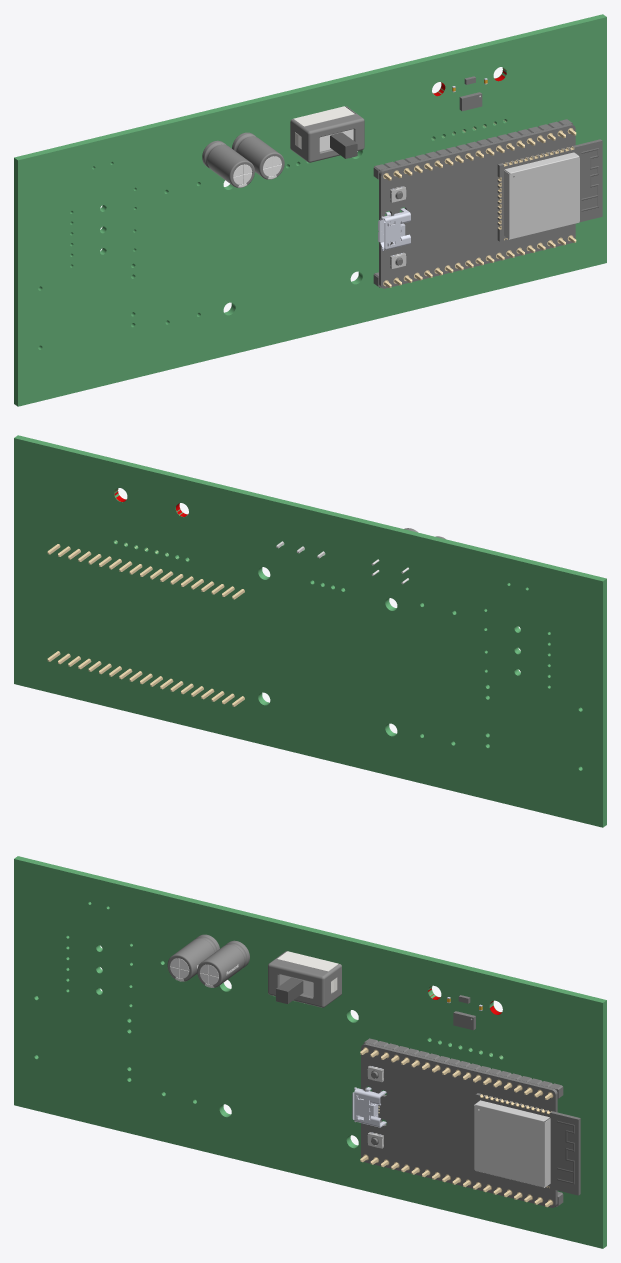
The model's file is device_pcb.glb.
The picture shows the model from 3 angles, top to bottom: view 1: azimuth 30°, elevation 25°; view 2: azimuth 150°, elevation 25°; view 3: azimuth 330°, elevation 25°; orthographic projection.
Parts seen in each view (by area): view 1: Open CASCADE STEP translator 7.5 1.1.1.step-1, board_1.step-1, ESP32-WROOM-32D.step-1, 25139nah.step-1, header.step-2, body.step-1.001, body.step-1, micro usb.step-1, header.step-1, SEN-09836_SEN-09836.step-1, 2.step-1, 4.step-1; view 2: Open CASCADE STEP translator 7.5 1.1.1.step-1, header.step-2, header.step-1; view 3: Open CASCADE STEP translator 7.5 1.1.1.step-1, board_1.step-1, ESP32-WROOM-32D.step-1, 25139nah.step-1, header.step-2, body.step-1, body.step-1.001, micro usb.step-1, header.step-1, SEN-09836_SEN-09836.step-1, 2.step-1, 4.step-1.
Part boxes in pixels (<box>): Open CASCADE STEP translator 7.5 1.1.1.step-1: <box>14,14,606,406</box>; board_1.step-1: <box>379,123,575,288</box>; ESP32-WROOM-32D.step-1: <box>497,139,602,241</box>; 25139nah.step-1: <box>290,106,364,162</box>; header.step-2: <box>373,119,576,180</box>; body.step-1.001: <box>202,140,254,187</box>; body.step-1: <box>232,132,284,179</box>; micro usb.step-1: <box>378,208,410,251</box>; header.step-1: <box>373,236,576,287</box>; SEN-09836_SEN-09836.step-1: <box>433,68,506,139</box>; 2.step-1: <box>293,106,354,126</box>; 4.step-1: <box>330,132,357,158</box>; Open CASCADE STEP translator 7.5 1.1.1.step-1: <box>14,435,606,827</box>; header.step-2: <box>47,544,244,599</box>; header.step-1: <box>47,651,244,706</box>; Open CASCADE STEP translator 7.5 1.1.1.step-1: <box>14,856,606,1248</box>; board_1.step-1: <box>361,1043,557,1207</box>; ESP32-WROOM-32D.step-1: <box>474,1093,580,1195</box>; 25139nah.step-1: <box>268,951,341,1007</box>; header.step-2: <box>360,1038,563,1099</box>; body.step-1: <box>197,940,249,987</box>; body.step-1.001: <box>167,934,219,981</box>; micro usb.step-1: <box>352,1087,386,1127</box>; header.step-1: <box>360,1155,563,1207</box>; SEN-09836_SEN-09836.step-1: <box>428,988,501,1057</box>; 2.step-1: <box>277,951,338,971</box>; 4.step-1: <box>276,977,303,1003</box>.
Size of the model in its own units: 0.146 by 0.0583 by 0.0201.
